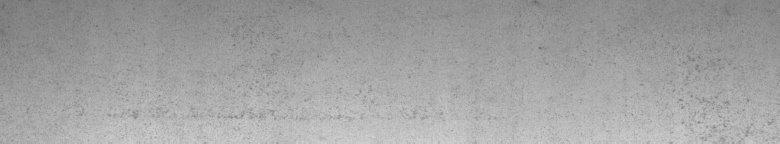ib: (677, 52, 774, 132)
